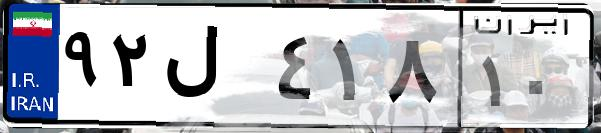0: (525, 38, 570, 115)
1: (330, 28, 385, 110), (475, 38, 525, 113)
2: (110, 28, 158, 98)
4: (270, 28, 330, 110)
8: (385, 28, 445, 110)
9: (57, 26, 110, 100)
ل: (158, 20, 270, 120)
